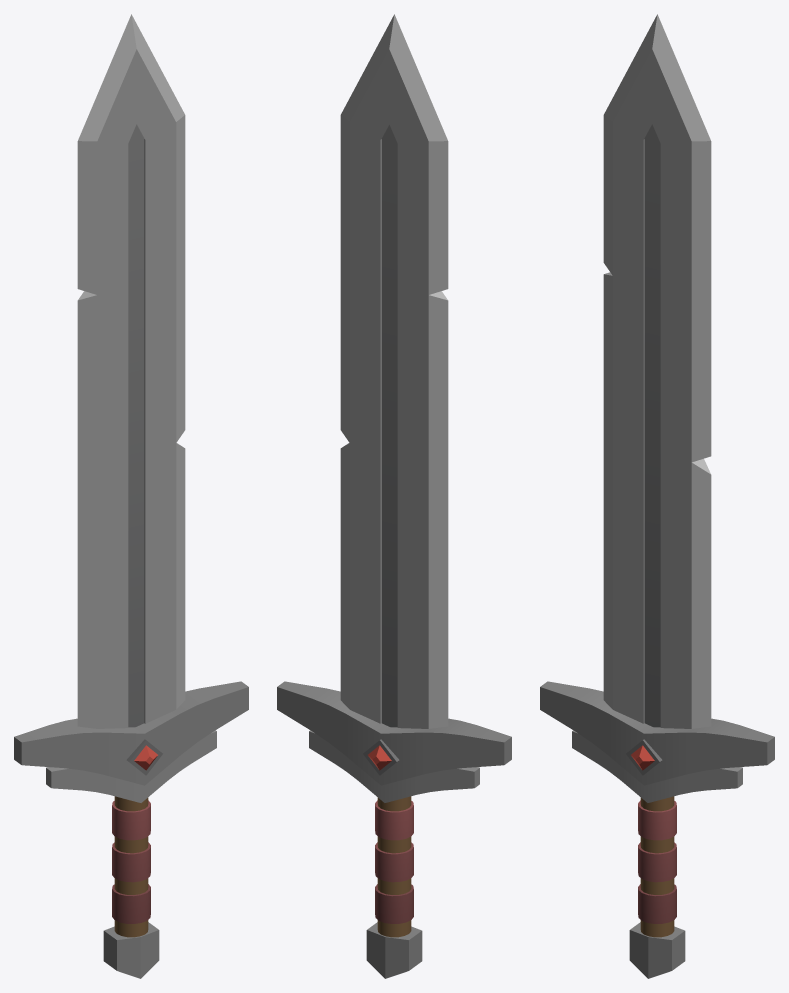
File: Sword_01.fbx
3 renders of one model, left to right at view 1: azimuth 30°, elevation 25°; view 2: azimuth 150°, elevation 25°; view 3: azimuth 330°, elevation 25°, orthographic.
Visible parts, largest first — view 1: Sword_01_LOD0; view 2: Sword_01_LOD0; view 3: Sword_01_LOD0.
Boxes of the visible parts, x1,y1,x2,y2 form: Sword_01_LOD0: (14,14,248,978); Sword_01_LOD0: (277,14,511,978); Sword_01_LOD0: (540,14,774,978).
Size of what is drawn, in the model's own units: 0.2939 by 1.18 by 0.0815.
